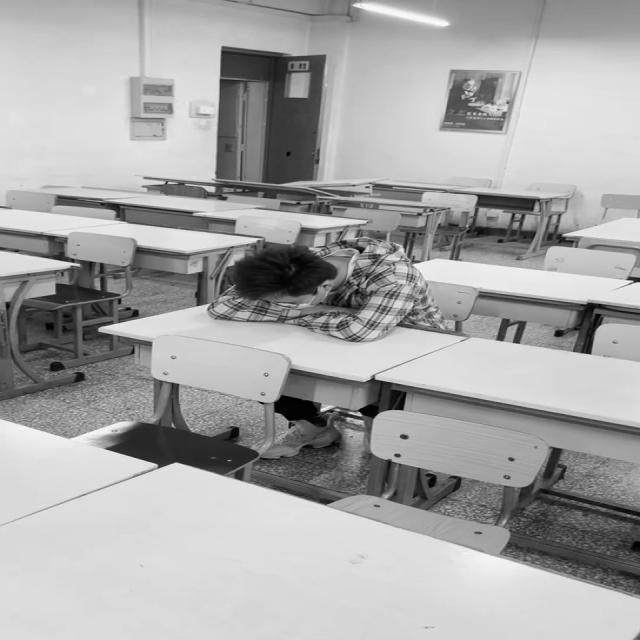sleep: (206, 244, 432, 330)
